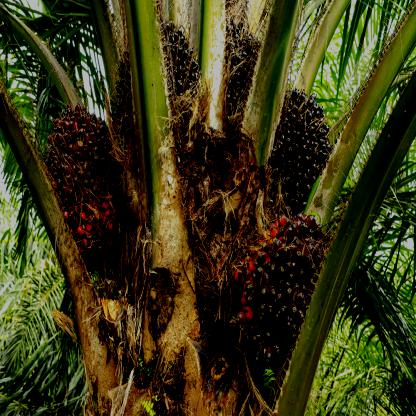1: (236, 209, 329, 364), (44, 103, 119, 266)
palm-oil: (261, 80, 331, 216), (212, 24, 264, 117), (158, 18, 202, 103), (111, 52, 139, 142)
